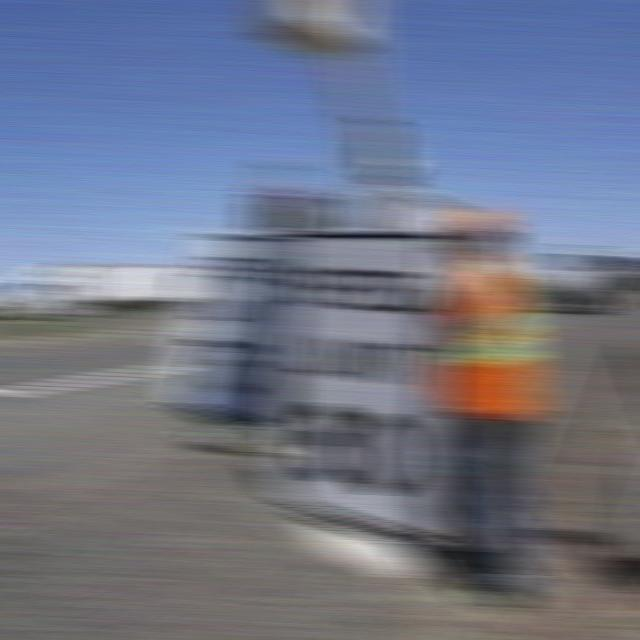speedLimit75: (163, 236, 302, 417)
speedLimit80: (278, 231, 456, 548)
